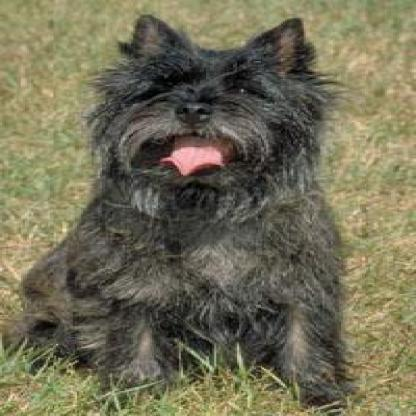affenpinscher: (0, 11, 358, 412)
